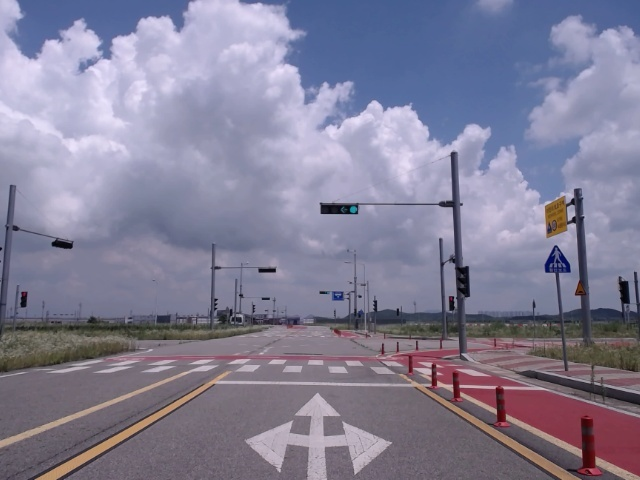all_green_4: (320, 205, 360, 216)
